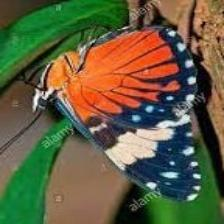butterfly: (38, 25, 202, 203)
